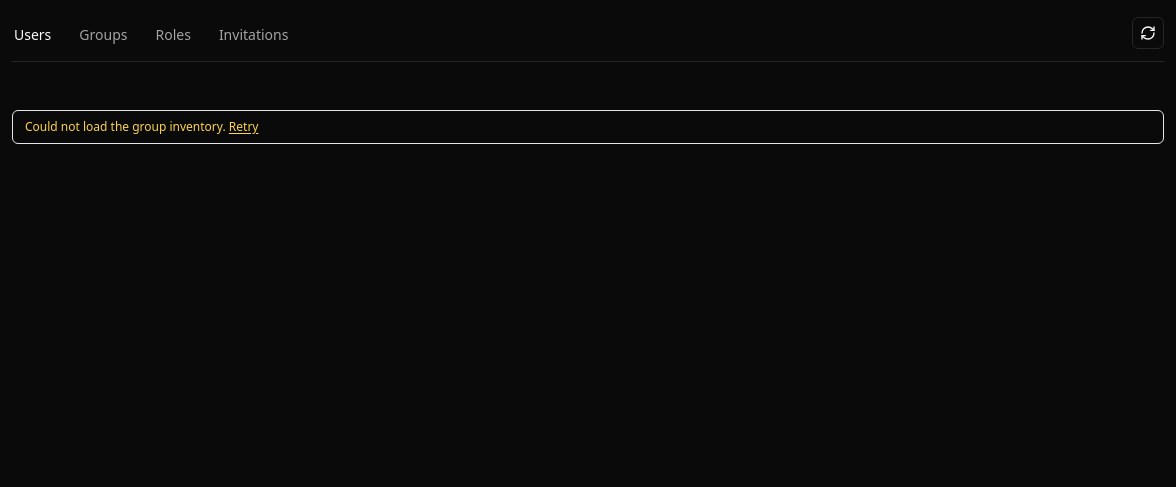
released F09 agent group and template workflow › replaces a failed group load with one retryable error state
Expected: the text "Could not load the group inventory." is shown, [25,118,226,135]
What coordinates should you click on to do the following:
click the button "Retry"
I would click on:
 (244, 127)
Its box is [229,119,258,135].
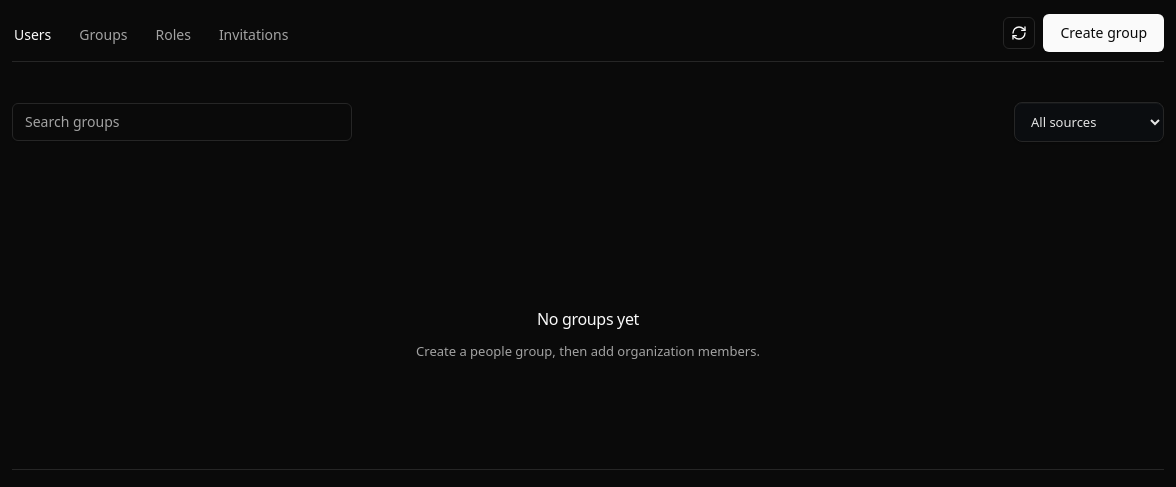
Expected: the button "Create group" is shown, [1044,14,1164,52]
